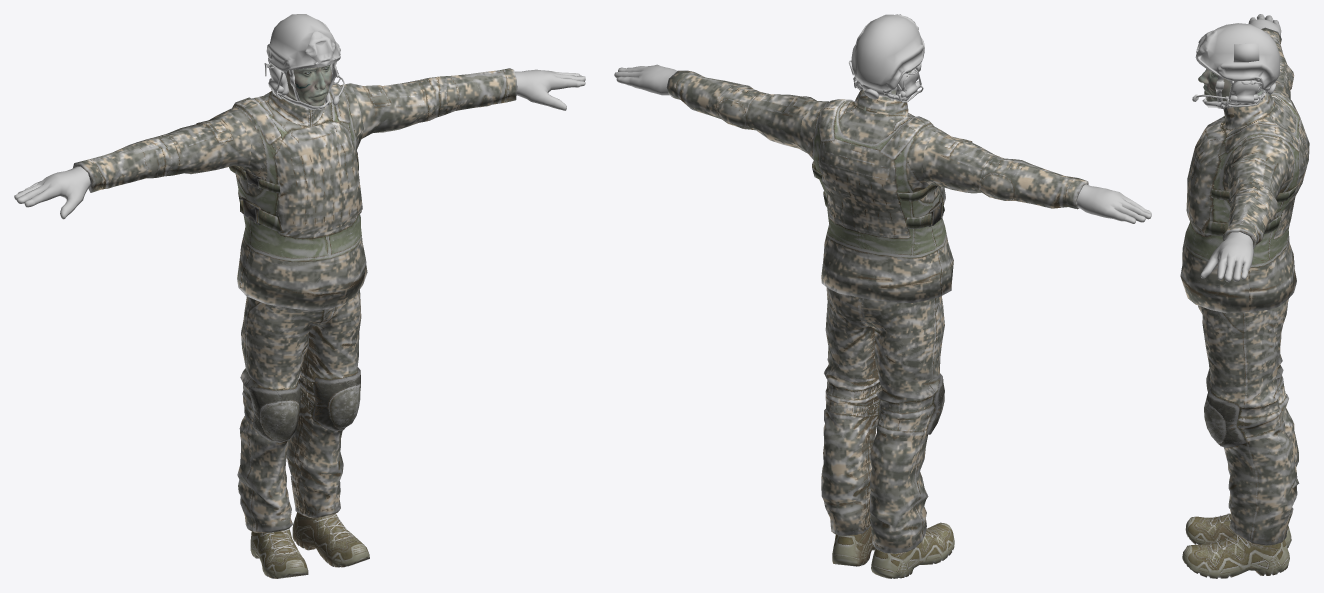
Rendered from body.obj.
The picture shows the model from 3 angles, left to right: view 1: azimuth 30°, elevation 25°; view 2: azimuth 150°, elevation 25°; view 3: azimuth 270°, elevation 25°; orthographic projection.
Parts seen in each view (by area): view 1: Tops, Bottoms, Shoes, Hats, Gloves, Body; view 2: Tops, Bottoms, Hats, Shoes, Gloves; view 3: Tops, Bottoms, Hats, Shoes, Gloves, Body.
Part boxes in pixels (x1=…): Tops: x1=72, y1=68, x2=517, y2=310; Bottoms: x1=237, y1=290, x2=361, y2=532; Shoes: x1=250, y1=512, x2=369, y2=578; Hats: x1=264, y1=14, x2=344, y2=109; Gloves: x1=14, y1=69, x2=585, y2=219; Body: x1=271, y1=64, x2=331, y2=106; Tops: x1=666, y1=70, x2=1088, y2=302; Bottoms: x1=821, y1=287, x2=944, y2=554; Hats: x1=849, y1=14, x2=924, y2=102; Shoes: x1=832, y1=522, x2=954, y2=578; Gloves: x1=614, y1=64, x2=1151, y2=223; Tops: x1=1180, y1=27, x2=1309, y2=313; Bottoms: x1=1198, y1=299, x2=1299, y2=545; Hats: x1=1192, y1=23, x2=1279, y2=109; Shoes: x1=1182, y1=509, x2=1291, y2=578; Gloves: x1=1200, y1=14, x2=1281, y2=282; Body: x1=1198, y1=69, x2=1273, y2=108.
Bounding box in the file's own units: 195 × 182 × 40.13.
